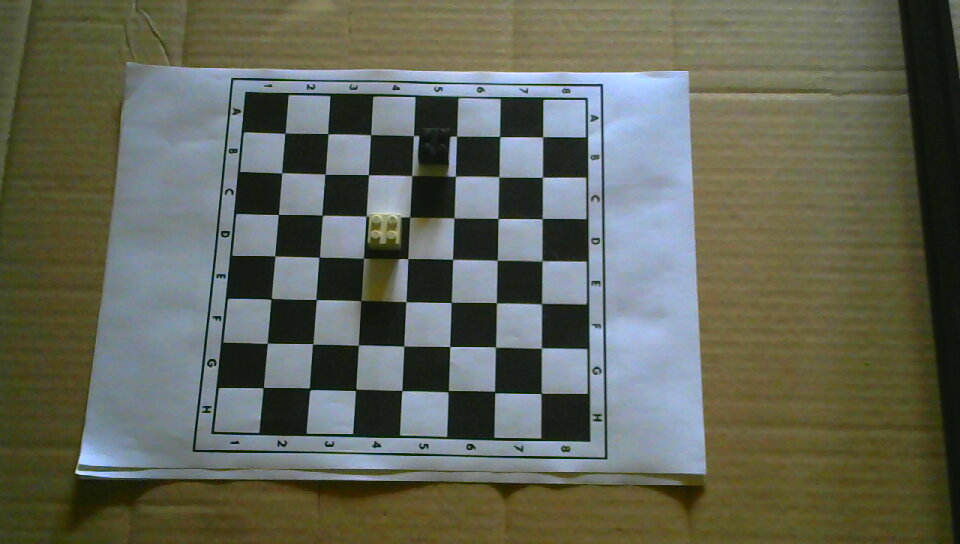bp: (417, 126, 452, 168)
wp: (366, 211, 403, 251)
